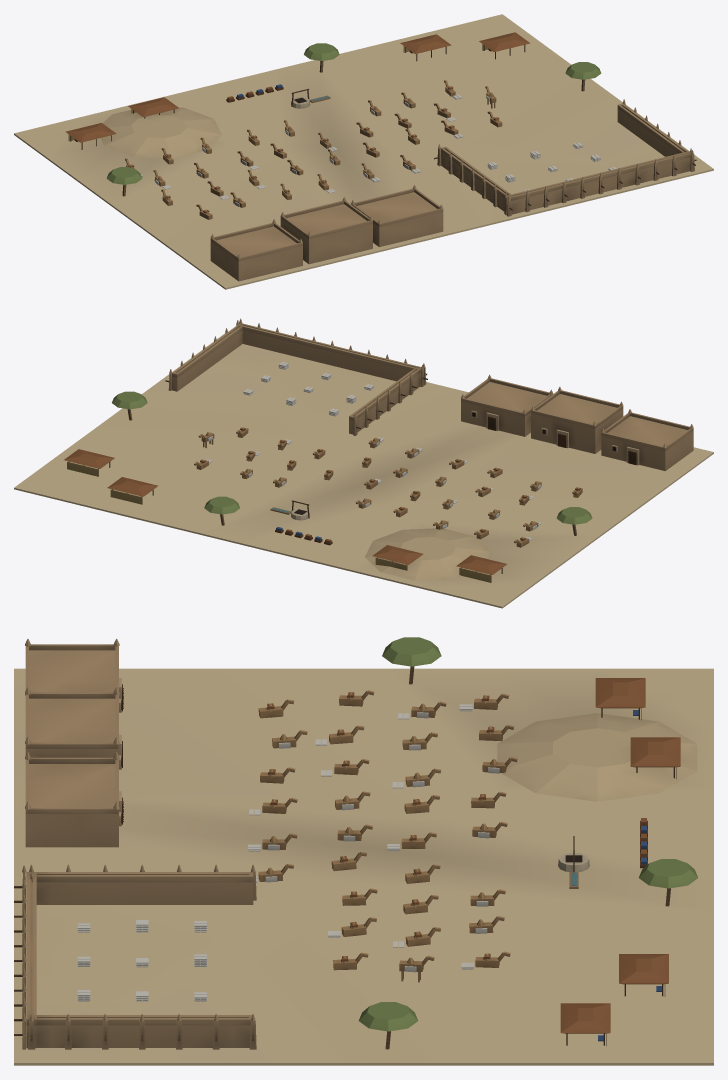
The model's file is azalai-ground.glb.
The picture shows the model from 3 angles, top to bottom: view 1: azimuth 30°, elevation 25°; view 2: azimuth 150°, elevation 25°; view 3: azimuth 270°, elevation 25°; orthographic projection. The views are drawn at different scales.
Visible parts, largest first — view 1: p0_ground, p1_stores, p2_camp, p3_caravan; view 2: p0_ground, p1_stores, p2_camp, p3_caravan; view 3: p0_ground, p1_stores, p3_caravan, p2_camp.
Boxes of the visible parts, x1,y1,x2,y2 form: p0_ground: (14,14,713,289); p1_stores: (210,99,696,281); p2_camp: (65,32,601,196); p3_caravan: (125,80,502,219); p0_ground: (14,333,713,608); p1_stores: (165,318,693,471); p2_camp: (64,391,592,582); p3_caravan: (194,427,582,547); p0_ground: (14,668,713,1065); p1_stores: (14,638,256,1049); p3_caravan: (248,690,517,982); p2_camp: (358,637,697,1049).
Size of the model in its own units: 80 by 5.25 by 60.
